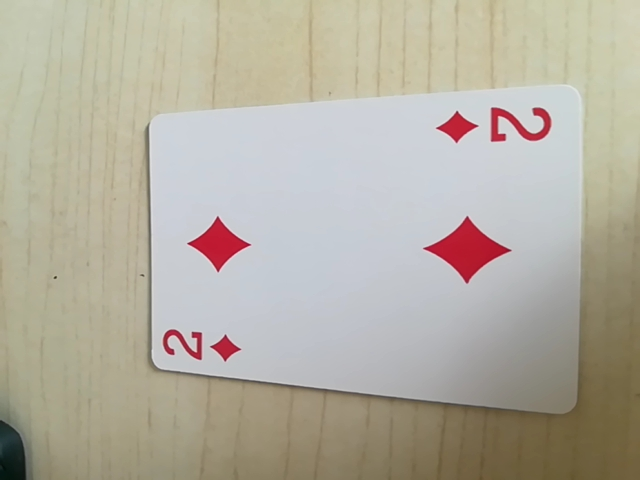fk 2: (436, 100, 556, 151), (160, 320, 247, 371)
